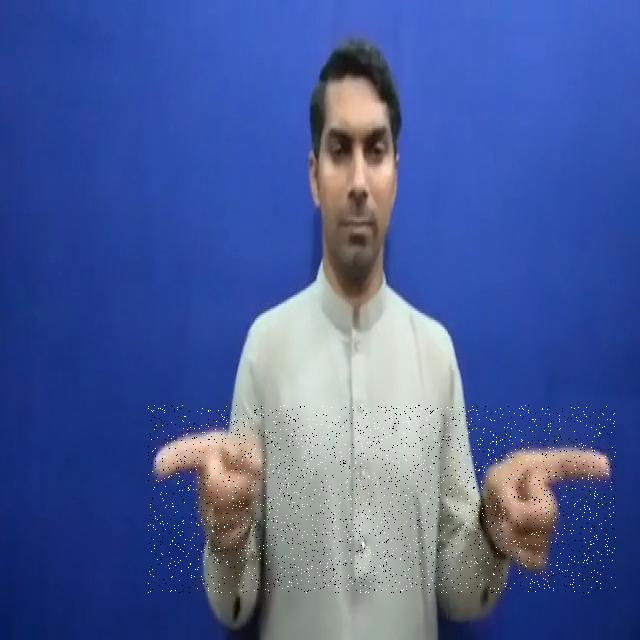sweet: (148, 405, 616, 593)
